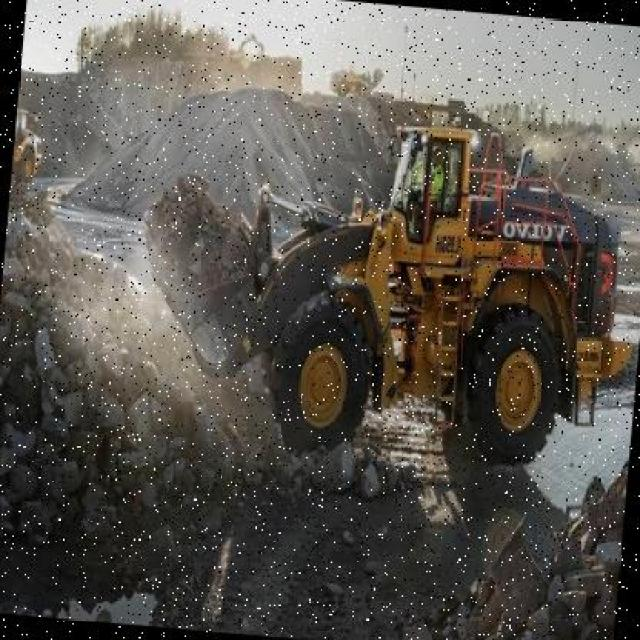buldozerpayloadergrader: (123, 70, 640, 498)
